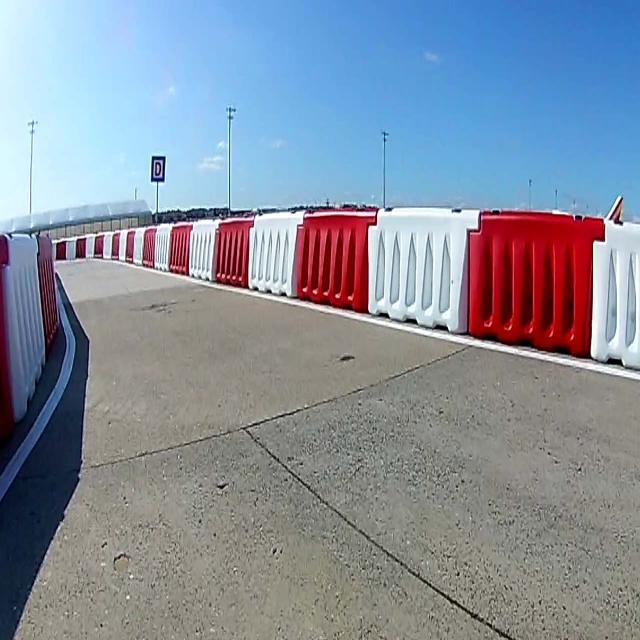durak: (151, 156, 165, 184)
